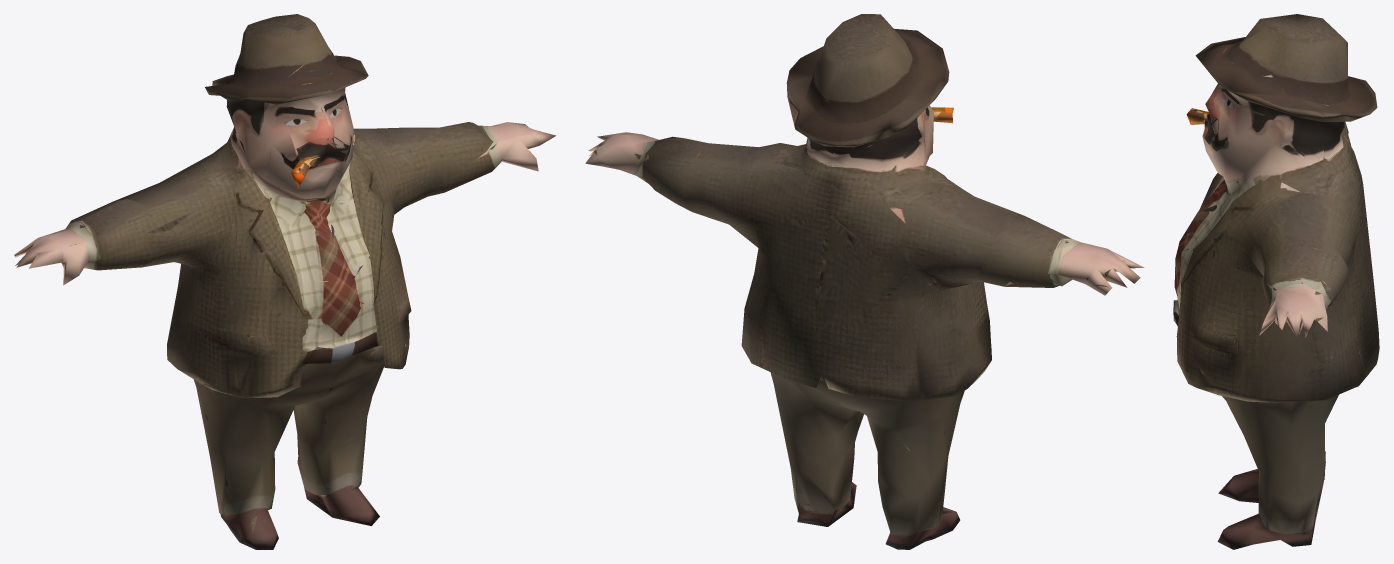
Rendered from ronnie_medium.glb.
3 views of the same model, side by side, from view 1: azimuth 30°, elevation 25°; view 2: azimuth 150°, elevation 25°; view 3: azimuth 270°, elevation 25° (orthographic). The views are drawn at different scales.
Parts seen in each view (by area): view 1: Mesh_0; view 2: Mesh_0; view 3: Mesh_0.
Boxes of the visible parts, x1,y1,x2,y2 form: Mesh_0: (14, 14, 555, 549); Mesh_0: (585, 14, 1144, 549); Mesh_0: (1173, 14, 1379, 549).
Bounding box in the file's own units: 1.83 × 1.6 × 0.6.
Materials: 1 (1 with a texture image).
